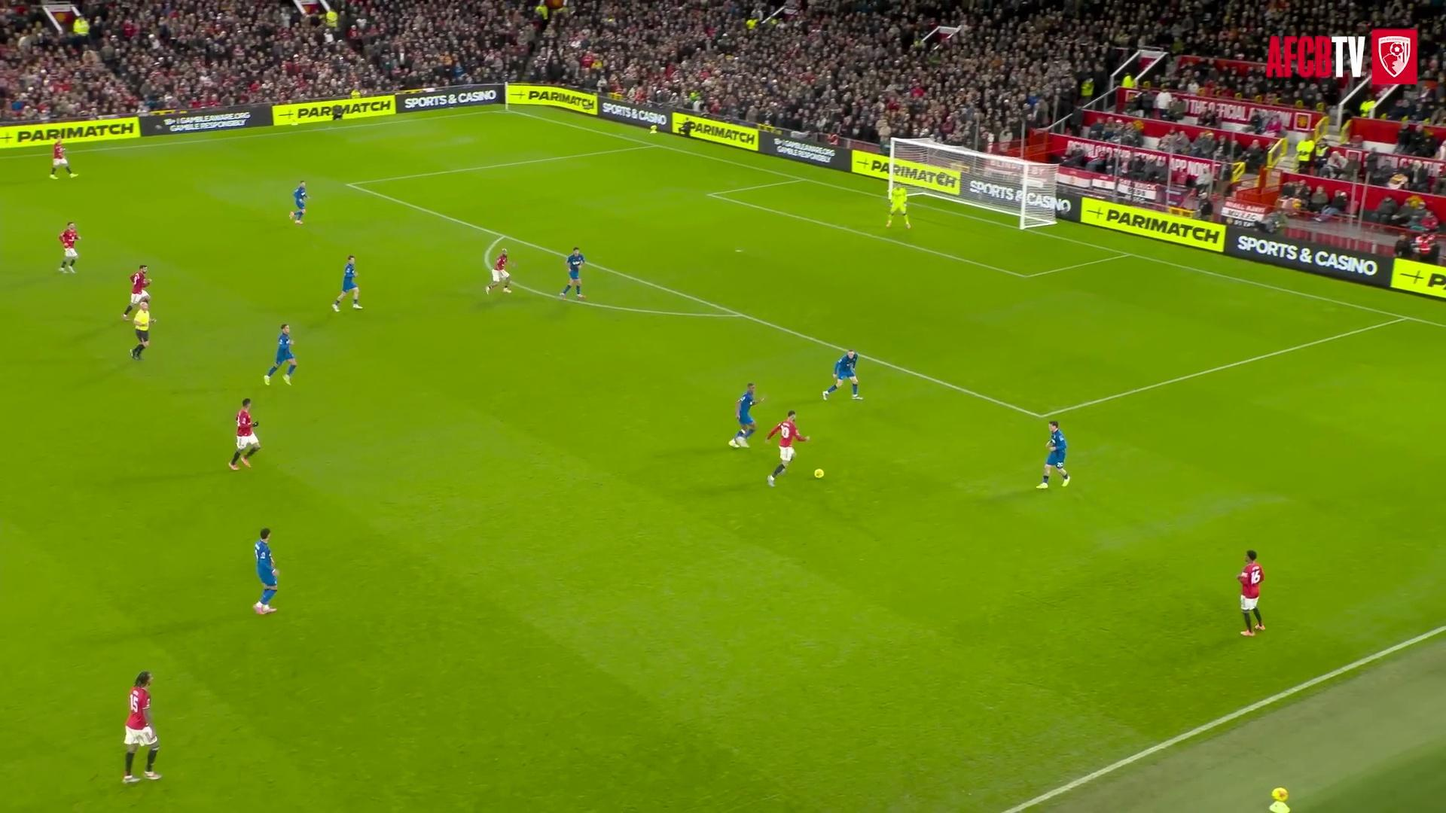football: (1271, 788, 1289, 801), (816, 468, 824, 477)
player: (123, 671, 161, 783), (766, 410, 808, 486), (228, 398, 261, 470), (1237, 550, 1264, 635), (1036, 421, 1069, 489), (729, 382, 763, 447), (253, 528, 278, 614), (822, 349, 862, 400), (264, 324, 297, 385), (121, 265, 151, 320), (333, 255, 362, 311), (560, 246, 584, 298), (58, 221, 81, 273), (486, 248, 511, 293), (886, 184, 911, 228), (50, 139, 77, 178), (290, 181, 307, 224)
referee: (130, 301, 154, 359)
